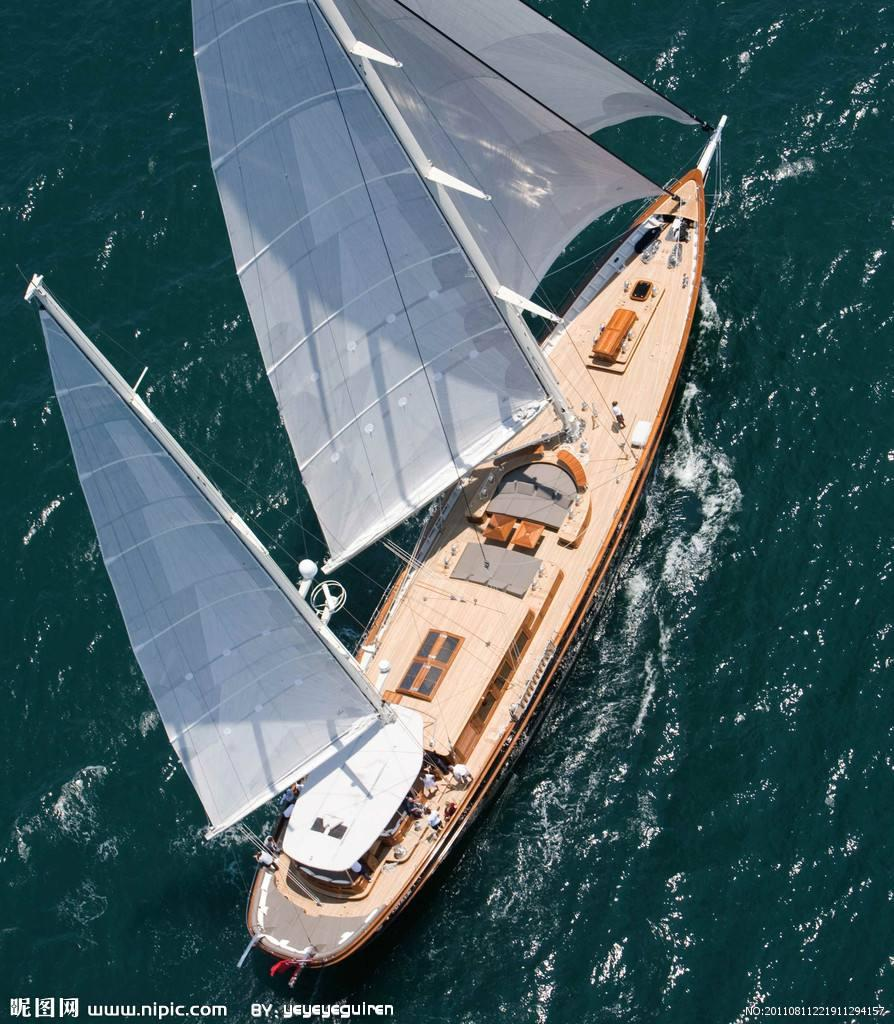fanchuan: (22, 1, 735, 971)
